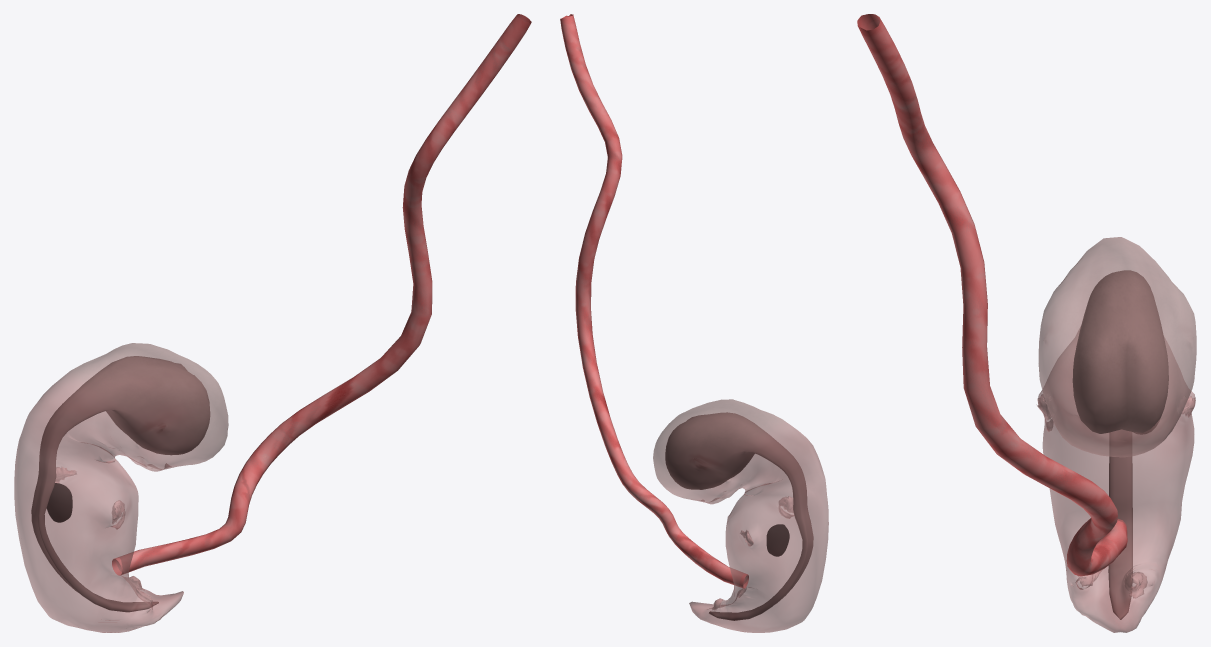
Rendered from Feto_morph_3-6.fbx.
The picture shows the model from 3 angles, left to right: view 1: azimuth 30°, elevation 25°; view 2: azimuth 150°, elevation 25°; view 3: azimuth 270°, elevation 25°; orthographic projection. The views are drawn at different scales.
Parts seen in each view (by area): view 1: Feto_3-6; view 2: Feto_3-6; view 3: Feto_3-6.
Part boxes in pixels (<box>): Feto_3-6: <box>14,14,531,632</box>; Feto_3-6: <box>560,14,828,632</box>; Feto_3-6: <box>857,14,1196,632</box>.
Bounding box in the file's own units: 4202 × 5817 × 2262.
